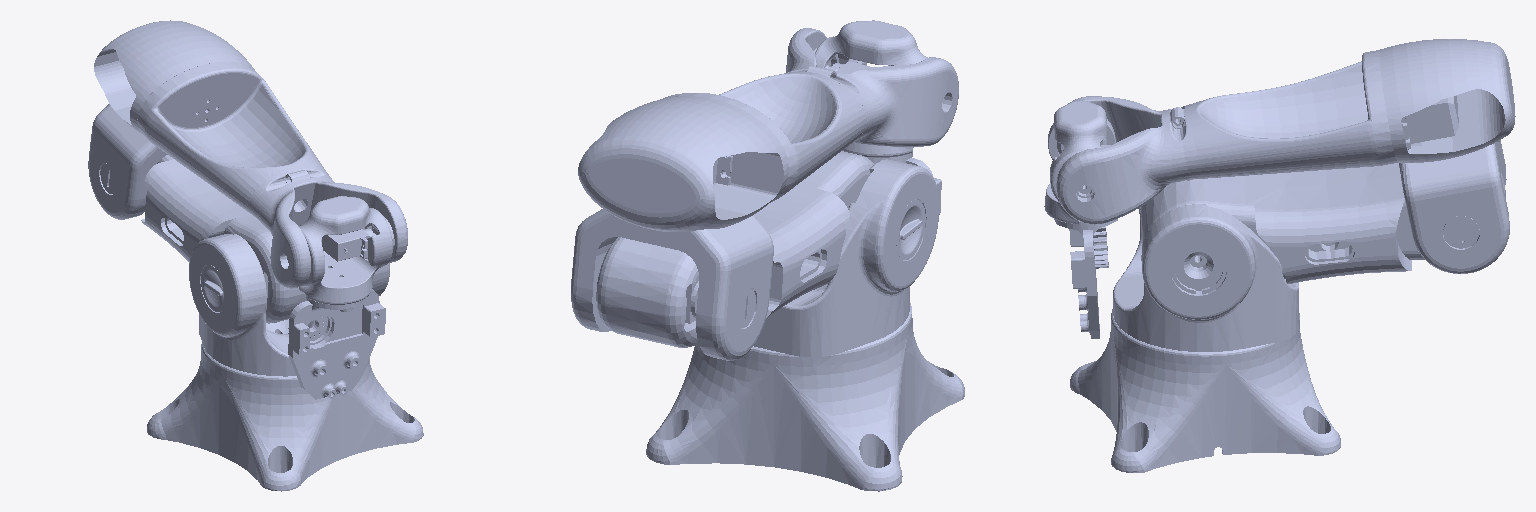
The robot description file, URDF, robot "robotic_armv2":
<?xml version="1.0" encoding="utf-8"?>
<!-- This URDF was automatically created by SolidWorks to URDF Exporter! Originally created by [author] ([email redacted]) 
     Commit Version: 1.6.0-4-g7f85cfe  Build Version: 1.6.7995.38578
     For more information, please see http://wiki.ros.org/sw_urdf_exporter -->
<robot
  name="robotic_armv2">
  <link name="world"/>
  <link
    name="base_link">
    <inertial>
      <origin
        xyz="-0.000796834879619241 0.000478268278223383 0.0279387864961493"
        rpy="0 0 0" />
      <mass
        value="0.274636943991629" />
      <inertia
        ixx="0.000387520229757092"
        ixy="1.23249323621076E-06"
        ixz="-1.10019938093234E-06"
        iyy="0.000388395138695133"
        iyz="5.32392971459798E-07"
        izz="0.000613714891971546" />
    </inertial>
    <visual>
      <origin
        xyz="0 0 0"
        rpy="0 0 0" />
      <geometry>
        <mesh
          filename="package://robotic_armv2/meshes/base_link.STL" />
      </geometry>
      <material
        name="">
        <color
          rgba="0.792156862745098 0.819607843137255 0.933333333333333 1" />
      </material>
    </visual>
    <collision>
      <origin
        xyz="0 0 0"
        rpy="0 0 0" />
      <geometry>
        <mesh
          filename="package://robotic_armv2/meshes/base_link.STL" />
      </geometry>
    </collision>
  </link>
  <joint name="base_joint" type="fixed">
	<parent link="world"/>
	<child link="base_link"/>
	<origin rpy="0 0 0" xyz="0.0 0.0 0.0"/>
</joint>
  <link
    name="link1">
    <inertial>
      <origin
        xyz="-0.00047113447861966 0.030247289544688 -0.00196758786093753"
        rpy="0 0 0" />
      <mass
        value="0.291088509229421" />
      <inertia
        ixx="0.000297024978034816"
        ixy="-8.44345612591062E-07"
        ixz="8.95264958739706E-07"
        iyy="0.00046643078232144"
        iyz="-1.53455990447725E-05"
        izz="0.000464775069971941" />
    </inertial>
    <visual>
      <origin
        xyz="0 0 0"
        rpy="0 0 0" />
      <geometry>
        <mesh
          filename="package://robotic_armv2/meshes/link1.STL" />
      </geometry>
      <material
        name="">
        <color
          rgba="0.792156862745098 0.819607843137255 0.933333333333333 1" />
      </material>
    </visual>
    <collision>
      <origin
        xyz="0 0 0"
        rpy="0 0 0" />
      <geometry>
        <mesh
          filename="package://robotic_armv2/meshes/link1.STL" />
      </geometry>
    </collision>
  </link>
  <joint
    name="joint1"
    type="revolute">
    <origin
      xyz="0 0 0.053"
      rpy="1.5708 0 0.022372" />
    <parent
      link="base_link" />
    <child
      link="link1" />
    <axis
      xyz="0 1 0" />
    <limit
      lower="0"
      upper="6.14"
      effort="300"
      velocity="3" />
  </joint>
  <link
    name="link2">
    <inertial>
      <origin
        xyz="0.00170504757895209 0.0546509427178792 -0.0380858551984399"
        rpy="0 0 0" />
      <mass
        value="0.197292876173012" />
      <inertia
        ixx="0.00038021069139161"
        ixy="1.18816380277007E-06"
        ixz="-8.7132793819062E-07"
        iyy="0.000163716810802238"
        iyz="0.000145601299790838"
        izz="0.000269289276265461" />
    </inertial>
    <visual>
      <origin
        xyz="0 0 0"
        rpy="0 0 0" />
      <geometry>
        <mesh
          filename="package://robotic_armv2/meshes/link2.STL" />
      </geometry>
      <material
        name="">
        <color
          rgba="0.792156862745098 0.819607843137255 0.933333333333333 1" />
      </material>
    </visual>
    <collision>
      <origin
        xyz="0 0 0"
        rpy="0 0 0" />
      <geometry>
        <mesh
          filename="package://robotic_armv2/meshes/link2.STL" />
      </geometry>
    </collision>
  </link>
  <joint
    name="joint2"
    type="revolute">
    <origin
      xyz="3.24550580497712E-05 0.057 0.00499989466581075"
      rpy="-0.860427184703793 0.00225819449255715 0.00492109707774197" />
    <parent
      link="link1" />
    <child
      link="link2" />
    <axis
      xyz="0.999978933162234 0 -0.0064910116099542" />
    <limit
      lower="0"
      upper="3.14"
      effort="300"
      velocity="3" />
  </joint>
  <link
    name="link3">
    <inertial>
      <origin
        xyz="0.000458917361062124 0.0404605883160127 0.000265234591021707"
        rpy="0 0 0" />
      <mass
        value="0.223081018902439" />
      <inertia
        ixx="0.00022314785215408"
        ixy="2.676540847644E-06"
        ixz="2.63752199306763E-06"
        iyy="0.00018916304181749"
        iyz="1.76648037607392E-06"
        izz="0.000285288667721088" />
    </inertial>
    <visual>
      <origin
        xyz="0 0 0"
        rpy="0 0 0" />
      <geometry>
        <mesh
          filename="package://robotic_armv2/meshes/link3.STL" />
      </geometry>
      <material
        name="">
        <color
          rgba="0.792156862745098 0.819607843137255 0.933333333333333 1" />
      </material>
    </visual>
    <collision>
      <origin
        xyz="0 0 0"
        rpy="0 0 0" />
      <geometry>
        <mesh
          filename="package://robotic_armv2/meshes/link3.STL" />
      </geometry>
    </collision>
  </link>
  <joint
    name="joint3"
    type="revolute">
    <origin
      xyz="-0.000520359543120531 0.114775368068488 -0.0801644816030724"
      rpy="1.04290173067971 0.00322147778618798 -0.00560753453432461" />
    <parent
      link="link2" />
    <child
      link="link3" />
    <axis
      xyz="0.999979088945927 0.00560747604964003 -0.00322147221415913" />
    <limit
      lower="-3.14"
      upper="0"
      effort="300"
      velocity="3" />
  </joint>
  <link
    name="link4">
    <inertial>
      <origin
        xyz="0.000985846102617648 0.00373253148723343 0.0727787857767236"
        rpy="0 0 0" />
      <mass
        value="0.210967449989927" />
      <inertia
        ixx="0.000434522048448348"
        ixy="-1.49756965327565E-06"
        ixz="5.44395133700946E-05"
        iyy="0.000499439533107056"
        iyz="1.83496265679071E-05"
        izz="0.000111903945868747" />
    </inertial>
    <visual>
      <origin
        xyz="0 0 0"
        rpy="0 0 0" />
      <geometry>
        <mesh
          filename="package://robotic_armv2/meshes/link4.STL" />
      </geometry>
      <material
        name="">
        <color
          rgba="0.792156862745098 0.819607843137255 0.933333333333333 1" />
      </material>
    </visual>
    <collision>
      <origin
        xyz="0 0 0"
        rpy="0 0 0" />
      <geometry>
        <mesh
          filename="package://robotic_armv2/meshes/link4.STL" />
      </geometry>
    </collision>
  </link>
  <joint
    name="joint4"
    type="revolute">
    <origin
      xyz="-0.000304957029133598 0.0611304721976521 0.0300491521303587"
      rpy="-0.00827143549916649 -0.0127995007768085 -3.09744117070902" />
    <parent
      link="link3" />
    <child
      link="link4" />
    <axis
      xyz="0.0127991512952331 -0.00827066365601214 0.999883882182731" />
    <limit
      lower="0"
      upper="3.14"
      effort="300"
      velocity="3" />
  </joint>
  <link
    name="link5">
    <inertial>
      <origin
        xyz="0.000971628811636049 -0.00297875222354379 0.0210056768354865"
        rpy="0 0 0" />
      <mass
        value="0.0630354927835244" />
      <inertia
        ixx="2.76364872908161E-05"
        ixy="2.65672198390993E-07"
        ixz="-4.59917433058323E-07"
        iyy="3.60657869500948E-05"
        iyz="2.81095240623324E-06"
        izz="1.81973098380261E-05" />
    </inertial>
    <visual>
      <origin
        xyz="0 0 0"
        rpy="0 0 0" />
      <geometry>
        <mesh
          filename="package://robotic_armv2/meshes/link5.STL" />
      </geometry>
      <material
        name="">
        <color
          rgba="0.792156862745098 0.819607843137255 0.933333333333333 1" />
      </material>
    </visual>
    <collision>
      <origin
        xyz="0 0 0"
        rpy="0 0 0" />
      <geometry>
        <mesh
          filename="package://robotic_armv2/meshes/link5.STL" />
      </geometry>
    </collision>
  </link>
  <joint
    name="joint5"
    type="revolute">
    <origin
      xyz="0.0010456 -0.00066121 0.16119"
      rpy="-1.5943 0.046498 -0.033998" />
    <parent
      link="link4" />
    <child
      link="link5" />
    <axis
      xyz="0.99834 -0.04724 0.03289" />
    <limit
      lower="0"
      upper="3.14"
      effort="300"
      velocity="3" />
  </joint>
  <link
    name="link6">
    <inertial>
      <origin
        xyz="-1.32814766129474E-16 4.16333634234434E-17 0.00446329633120068"
        rpy="0 0 0" />
      <mass
        value="0.00295336350282345" />
      <inertia
        ixx="1.76887923533744E-07"
        ixy="-1.14392616367548E-21"
        ixz="7.34122793640812E-23"
        iyy="1.76887923533747E-07"
        iyz="2.14239778651234E-22"
        izz="3.33250850838755E-07" />
    </inertial>
    <visual>
      <origin
        xyz="0 0 0"
        rpy="0 0 0" />
      <geometry>
        <mesh
          filename="package://robotic_armv2/meshes/link6.STL" />
      </geometry>
      <material
        name="">
        <color
          rgba="0.792156862745098 0.819607843137255 0.933333333333333 1" />
      </material>
    </visual>
    <collision>
      <origin
        xyz="0 0 0"
        rpy="0 0 0" />
      <geometry>
        <mesh
          filename="package://robotic_armv2/meshes/link6.STL" />
      </geometry>
    </collision>
  </link>
  <joint
    name="joint6"
    type="revolute">
    <origin
      xyz="0.014789 -0.0063537 0.052379"
      rpy="1.4199 0.12742 3.0879" />
    <parent
      link="link5" />
    <child
      link="link6" />
    <axis
      xyz="0 0 1" />
    <limit
      lower="0"
      upper="3.14"
      effort="300"
      velocity="3" />
  </joint>
  <transmission name="link1_trans">
	<type>transmission_interface/SimpleTransmission</type>
	<joint name="joint1">
	<hardwareInterface>hardware_interface/PositionJointInterface</hardwareInterface>
	</joint>
	<actuator name="link1_motor">
	<hardwareInterface>hardware_interface/PositionJointInterface</hardwareInterface>
	<mechanicalReduction>1</mechanicalReduction>
	</actuator>
</transmission>

<transmission name="link2_trans">
	<type>transmission_interface/SimpleTransmission</type>
	<joint name="joint2">
	<hardwareInterface>hardware_interface/PositionJointInterface</hardwareInterface>
	</joint>
	<actuator name="link2_motor">
	<hardwareInterface>hardware_interface/PositionJointInterface</hardwareInterface>
	<mechanicalReduction>1</mechanicalReduction>
	</actuator>
</transmission>

<transmission name="link3_trans">
	<type>transmission_interface/SimpleTransmission</type>
	<joint name="joint3">
	<hardwareInterface>hardware_interface/PositionJointInterface</hardwareInterface>
	</joint>
	<actuator name="link3_motor">
	<hardwareInterface>hardware_interface/PositionJointInterface</hardwareInterface>
	<mechanicalReduction>1</mechanicalReduction>
	</actuator>
</transmission>

<transmission name="link4_trans">
	<type>transmission_interface/SimpleTransmission</type>
	<joint name="joint4">
	<hardwareInterface>hardware_interface/PositionJointInterface</hardwareInterface>
	</joint>
	<actuator name="link4_motor">
	<hardwareInterface>hardware_interface/PositionJointInterface</hardwareInterface>
	<mechanicalReduction>1</mechanicalReduction>
	</actuator>
</transmission>

<transmission name="link5_trans">
	<type>transmission_interface/SimpleTransmission</type>
	<joint name="joint5">
	<hardwareInterface>hardware_interface/PositionJointInterface</hardwareInterface>
	</joint>
	<actuator name="link5_motor">
	<hardwareInterface>hardware_interface/PositionJointInterface</hardwareInterface>
	<mechanicalReduction>1</mechanicalReduction>
	</actuator>
</transmission>

<transmission name="link6_trans">
	<type>transmission_interface/SimpleTransmission</type>
	<joint name="joint6">
	<hardwareInterface>hardware_interface/PositionJointInterface</hardwareInterface>
	</joint>
	<actuator name="link6_motor">
	<hardwareInterface>hardware_interface/PositionJointInterface</hardwareInterface>
	<mechanicalReduction>1</mechanicalReduction>
	</actuator>
</transmission>

<gazebo>
	<plugin name="control" filename="libgazebo_ros_control.so">
	<robotNamespace>/</robotNamespace>
	</plugin>
</gazebo>

<gazebo reference="link1">
	<selfCollide>true</selfCollide>
</gazebo>

<gazebo reference="link2">
	<selfCollide>true</selfCollide>
</gazebo>

<gazebo reference="link3">
	<selfCollide>true</selfCollide>
</gazebo>

<gazebo reference="link4">
	<selfCollide>true</selfCollide>
</gazebo>

<gazebo reference="link5">
	<selfCollide>true</selfCollide>
</gazebo>

<gazebo reference="link6">
	<selfCollide>true</selfCollide>
</gazebo>
</robot>

--- What the picture shows (computed from the rendered views, not written in the file) ---
The picture shows the robot from 3 angles, left to right: view 1: azimuth 30°, elevation 25°; view 2: azimuth 150°, elevation 25°; view 3: azimuth 270°, elevation 25°; orthographic projection.
Model robotic_armv2 with 8 links and 7 joints (6 revolute, 1 fixed), rooted at world, posed all joints at 0.
Links seen in each view (by area): view 1: link4, base_link, link5, link3, link1, link2, link6; view 2: link3, base_link, link2, link4, link1, link5; view 3: link4, base_link, link3, link1, link2, link5, link6.
Boxes of the visible links, box(x1,y1,x2,y2) form: link4: box(137, 62, 407, 288); base_link: box(147, 343, 423, 491); link5: box(288, 196, 392, 399); link3: box(88, 20, 254, 219); link1: box(189, 234, 389, 376); link2: box(141, 155, 329, 323); link6: box(288, 314, 331, 344); link3: box(571, 96, 788, 360); base_link: box(646, 303, 964, 491); link2: box(596, 151, 874, 347); link4: box(660, 28, 958, 201); link1: box(753, 159, 938, 356); link5: box(815, 20, 941, 214); link4: box(1056, 50, 1397, 224); base_link: box(1070, 309, 1340, 472); link3: box(1380, 39, 1515, 273); link1: box(1113, 204, 1298, 351); link2: box(1140, 163, 1505, 283); link5: box(1044, 101, 1117, 338); link6: box(1093, 226, 1108, 268).
Size in the robot's own frame: 0.1438 by 0.2494 by 0.2116 metres.
Meshes: 7 distinct files referenced, 7 mesh visuals loaded (7 binary STL).